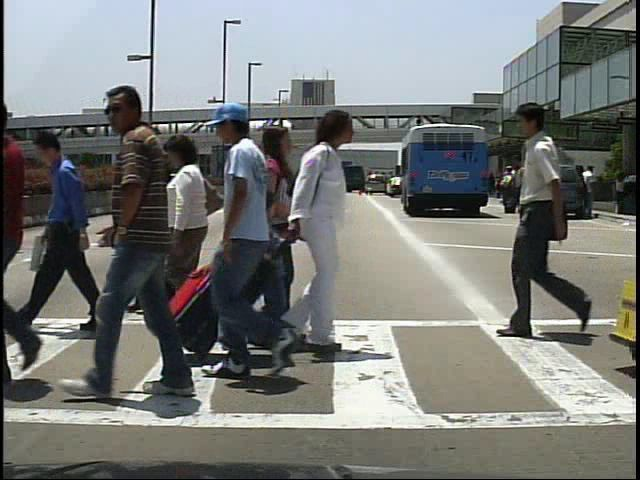person: (71, 84, 237, 413), (208, 105, 316, 388), (498, 94, 589, 339), (22, 122, 119, 335), (287, 105, 364, 357), (1, 92, 51, 391), (248, 122, 308, 360), (122, 130, 195, 322), (155, 133, 222, 327), (245, 182, 287, 350), (582, 163, 602, 218), (506, 165, 526, 215), (498, 166, 516, 219)
